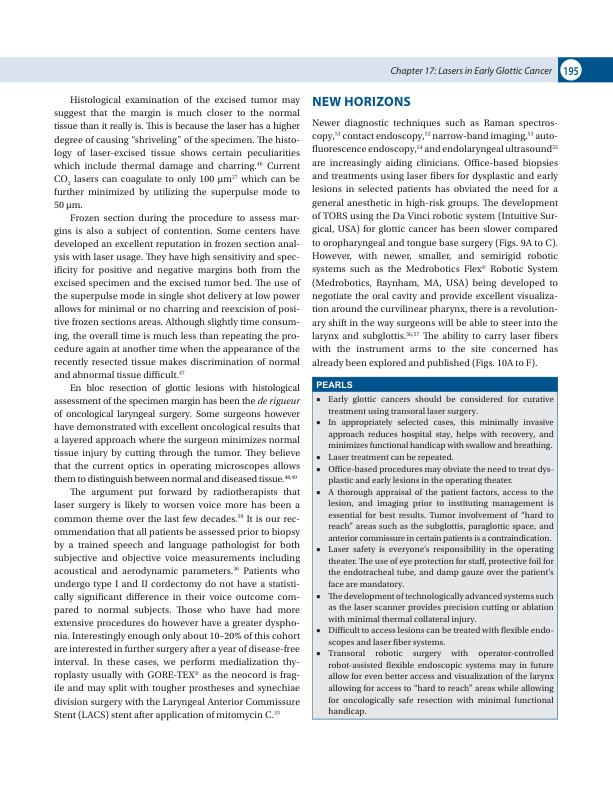header: (389, 65, 553, 78)
section-heading: (311, 95, 412, 108), (315, 379, 354, 390)
text: (51, 91, 302, 723), (313, 393, 556, 718), (310, 116, 560, 370)
